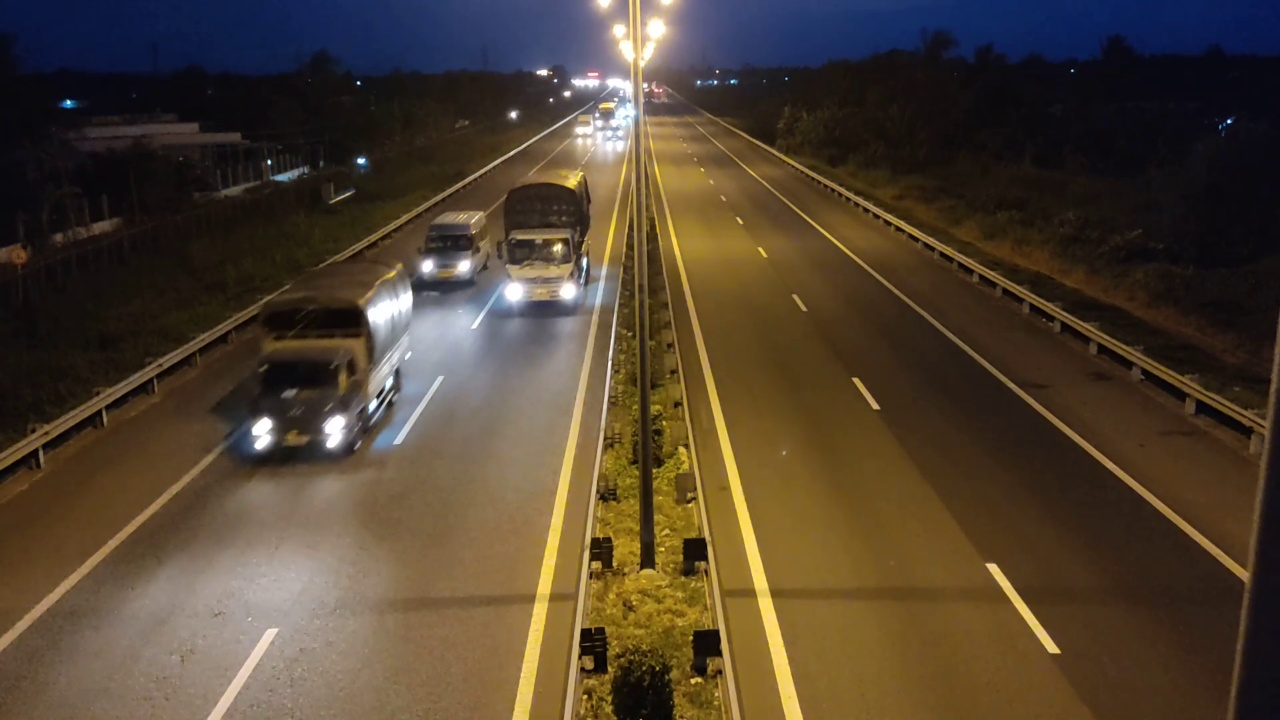car: (412, 206, 494, 287)
truck: (243, 262, 419, 462), (501, 166, 593, 314)
